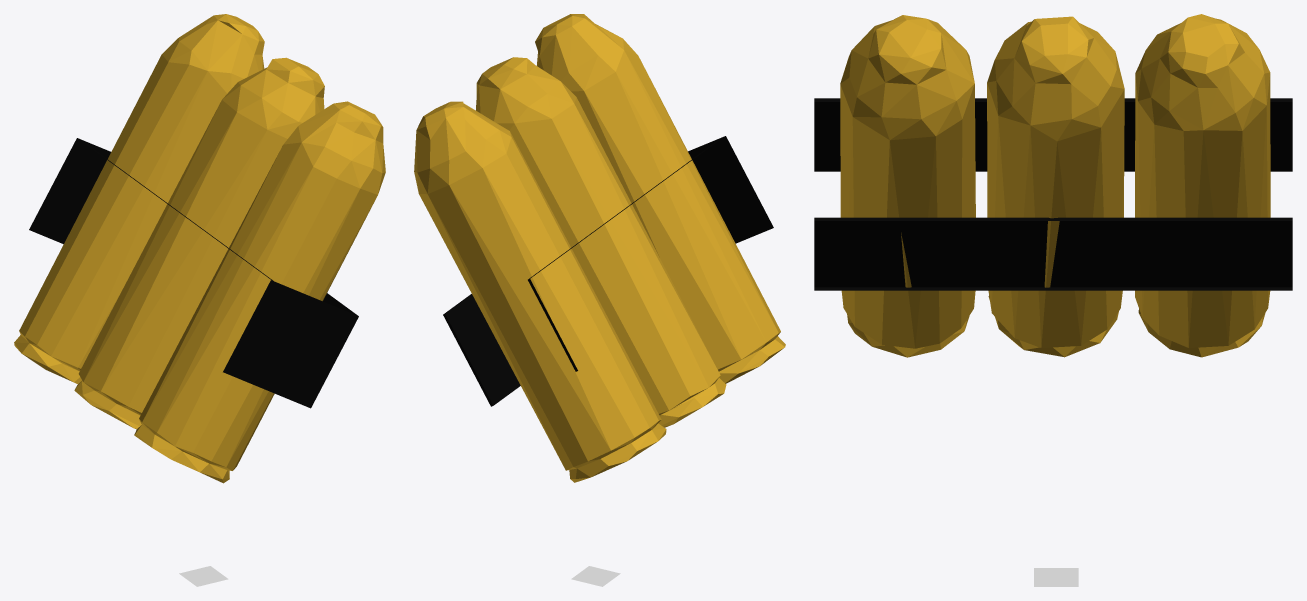
Rendered from ammo drop.fbx.
3 renders of one model, left to right at view 1: azimuth 30°, elevation 25°; view 2: azimuth 150°, elevation 25°; view 3: azimuth 270°, elevation 25°, orthographic. The views are drawn at different scales.
Visible parts, largest first — view 1: Cylinder.002, Plane; view 2: Cylinder.002, Plane; view 3: Cylinder.002, Plane.
Boxes of the visible parts, x1,y1,x2,y2 form: Cylinder.002: (14, 14, 385, 483); Plane: (179, 566, 228, 586); Cylinder.002: (414, 14, 785, 482); Plane: (571, 566, 620, 586); Cylinder.002: (814, 14, 1292, 357); Plane: (1034, 568, 1078, 586).
Size of the model in its own units: 94.9 by 188 by 134.
